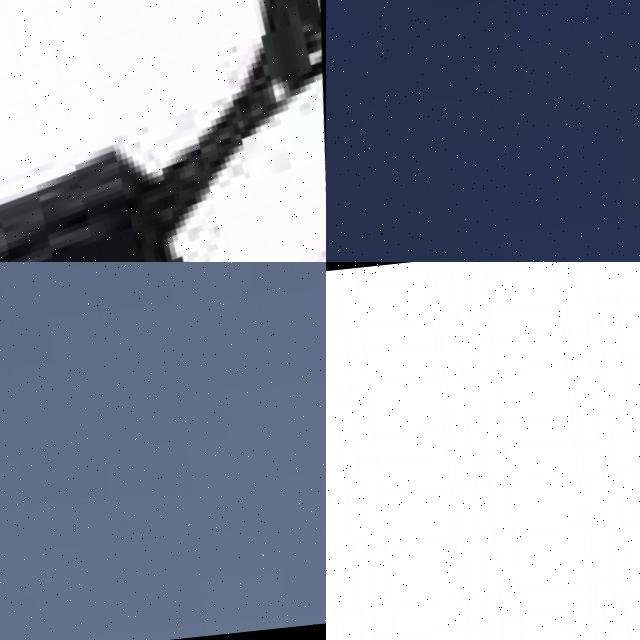drone: (0, 0, 326, 262), (326, 563, 640, 640)
